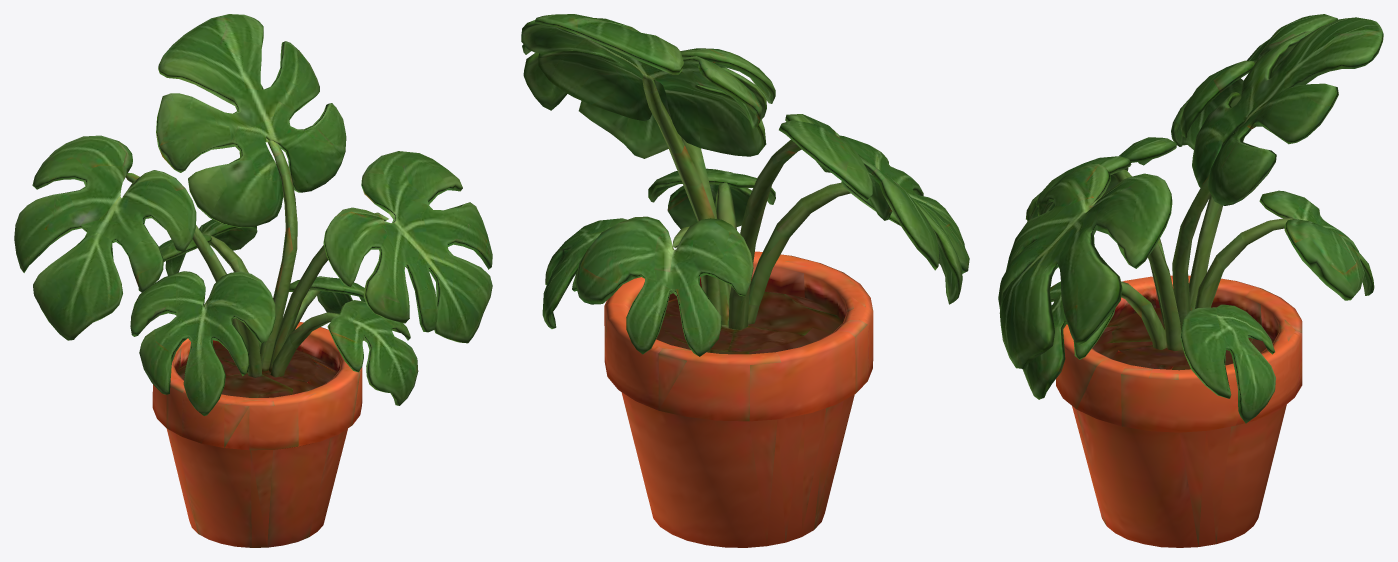
File: houseplant.glb
3 renders of one model, left to right at view 1: azimuth 30°, elevation 25°; view 2: azimuth 150°, elevation 25°; view 3: azimuth 270°, elevation 25°, orthographic. The views are drawn at different scales.
Bounding box in the file's own units: 0.958 × 0.9994 × 0.6871.
1 material, 1 textured.
